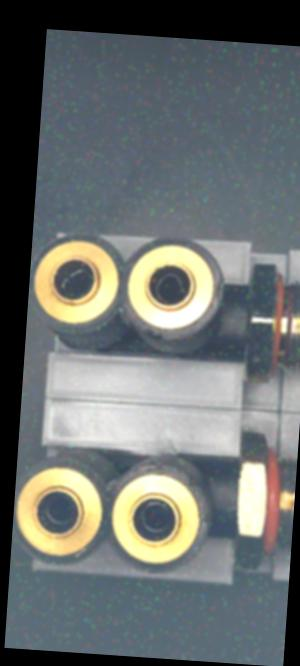bump: (141, 326, 168, 340), (195, 506, 210, 527), (183, 474, 196, 489)
off-centered: (149, 265, 189, 311), (58, 261, 101, 301)
white mark: (236, 309, 247, 320), (226, 503, 237, 514)
